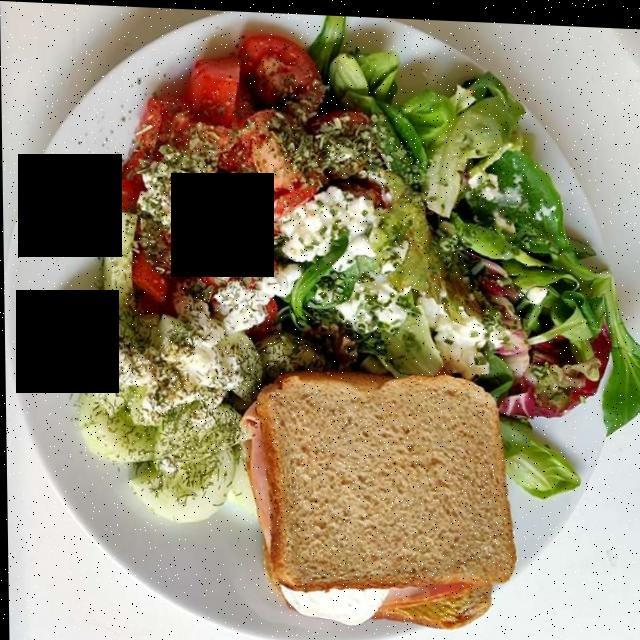bouquet-garni: (138, 115, 413, 359)
bread: (256, 373, 511, 612)
cheese: (168, 201, 417, 408)
cucumber: (52, 197, 254, 528)
salad: (335, 18, 638, 493)
tomato: (103, 36, 390, 318)
